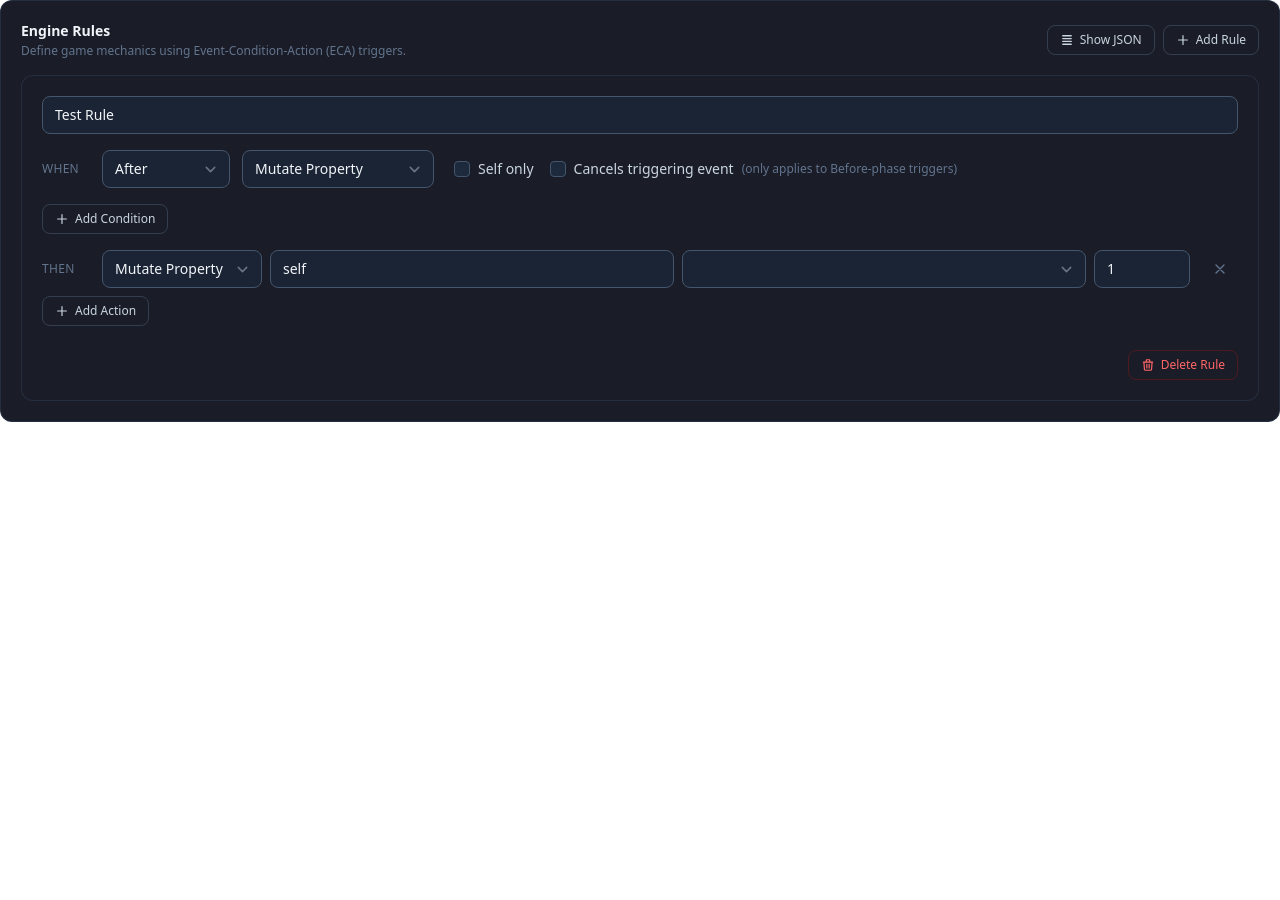
Test case: RuleBuilder › shows JSON preview with rule data when rules are present
Step 1. Click the button "Show JSON" → (1101, 40), box [1047,25,1155,55]
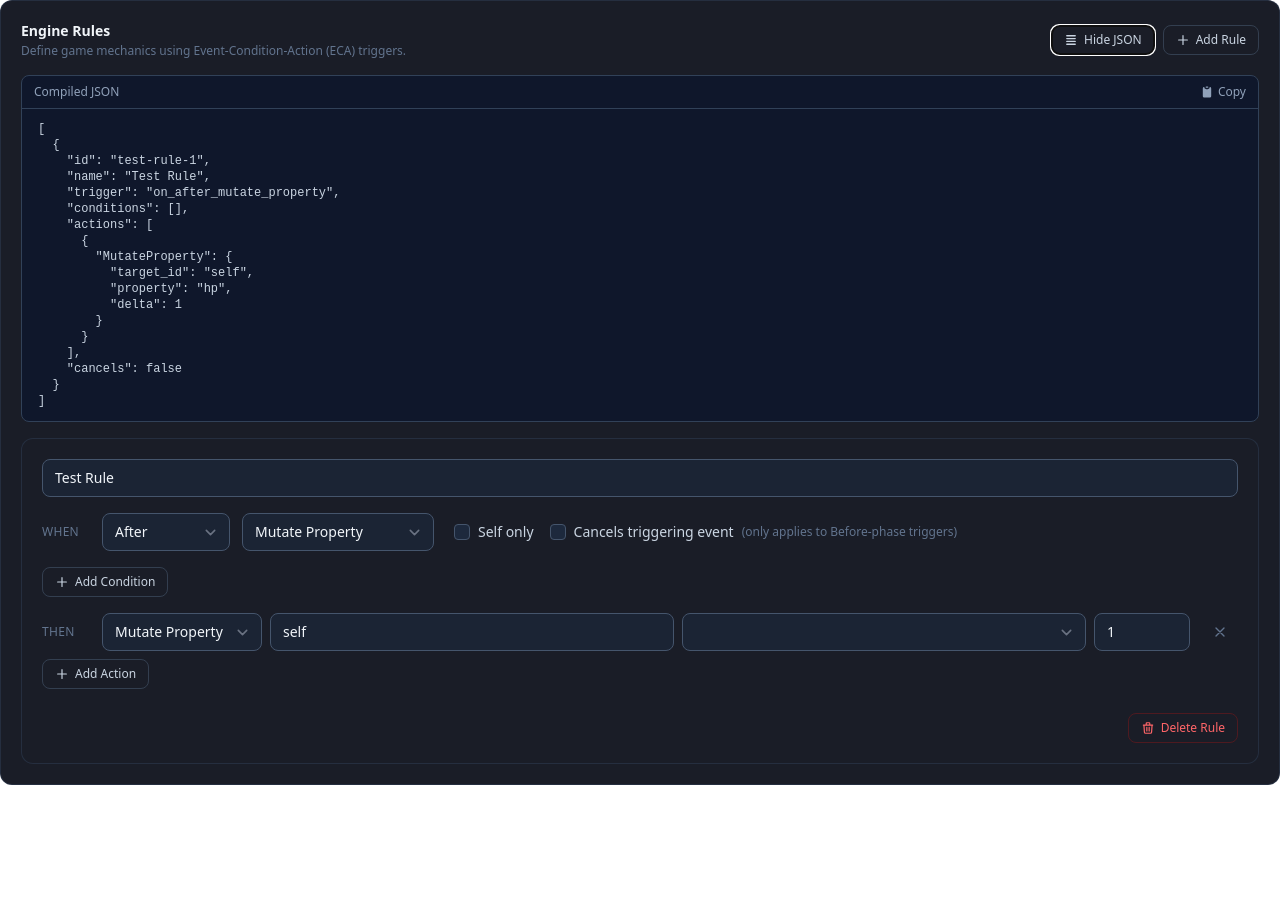
Expected: the text "\"on_after_mutate_property\"" is shown, [38,122,340,408]
